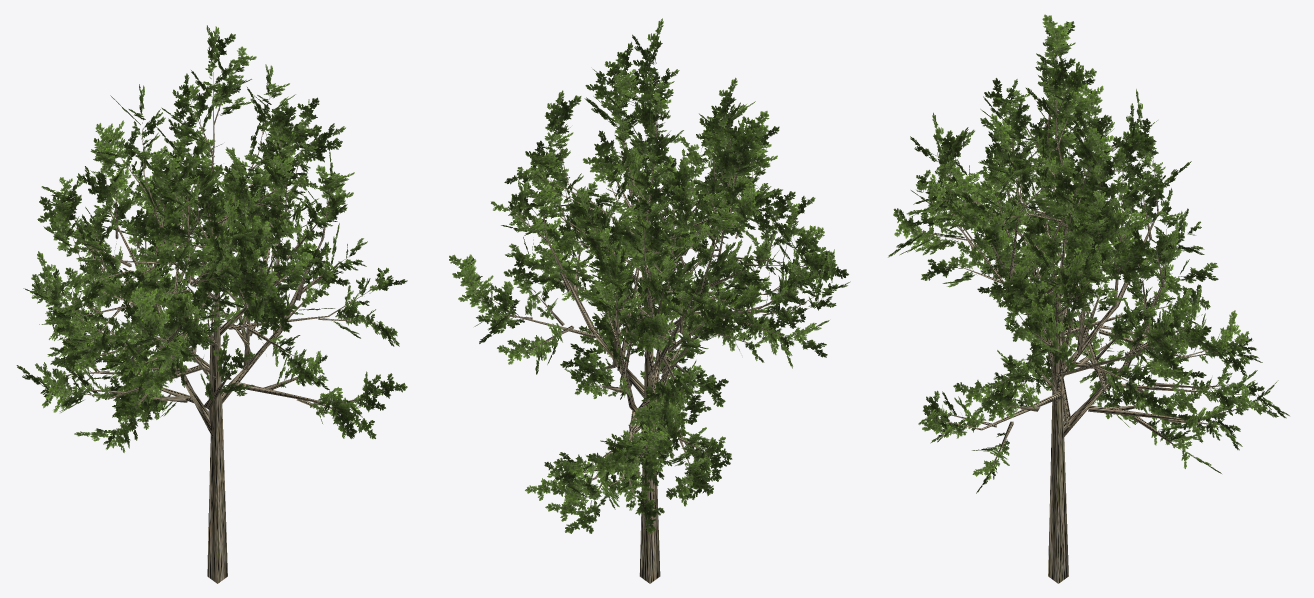
Rendered from tree_LOD2.glb.
The picture shows the model from 3 angles, left to right: view 1: azimuth 30°, elevation 25°; view 2: azimuth 150°, elevation 25°; view 3: azimuth 270°, elevation 25°; orthographic projection.
Parts seen in each view (by area): view 1: Leaves_LOD2, Branches_LOD2; view 2: Leaves_LOD2, Branches_LOD2; view 3: Leaves_LOD2, Branches_LOD2.
Part boxes in pixels (bbox=[...]): Leaves_LOD2: bbox=[16, 25, 407, 452]; Branches_LOD2: bbox=[53, 72, 374, 583]; Leaves_LOD2: bbox=[449, 18, 850, 534]; Branches_LOD2: bbox=[478, 69, 822, 583]; Leaves_LOD2: bbox=[888, 14, 1289, 493]; Branches_LOD2: bbox=[918, 59, 1256, 583].
Size of the model in its own units: 49.58 by 72.96 by 48.7.
2 materials, 2 textured.
